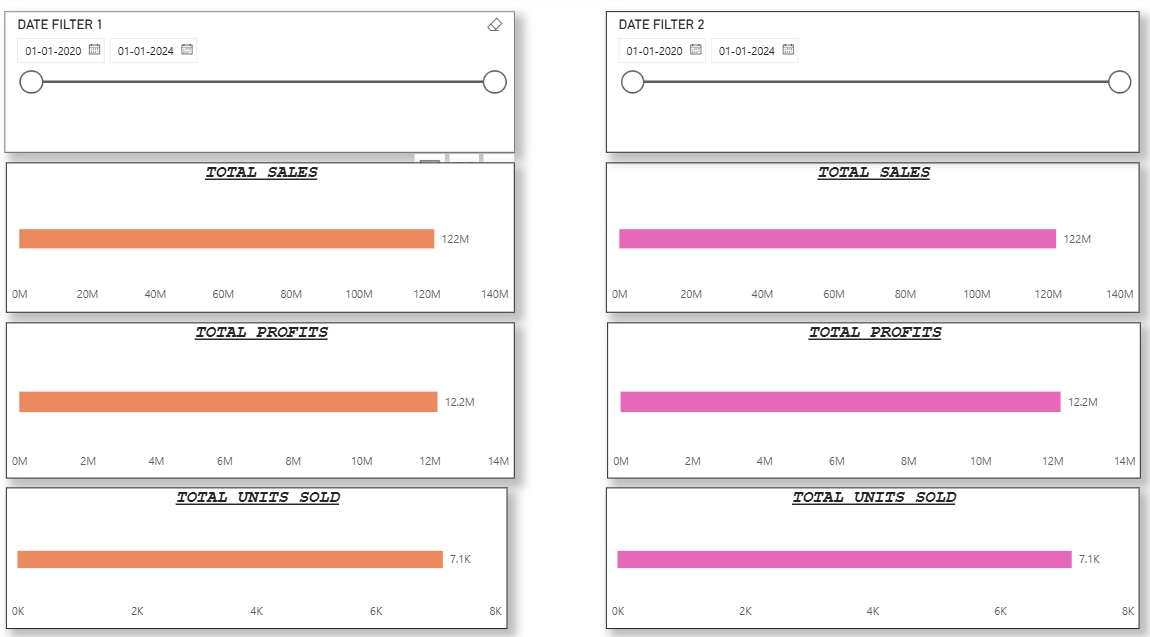

This screenshot's page, from the dashboard's own definition file:
{"tool":"powerbi","page":{"name":"REQUIREMNTS","canvas":[1280,720],"ordinal":3},"visuals":[{"type":"slicer","fields":{"Values":["Fact table.Date (dd/mm/yyyy)"]},"box":[9.6,17.8,559.9,155.1],"z":0},{"type":"barChart","title":"TOTAL SALES","fields":{"Y":["Sum(Fact table.NET SALES)"]},"box":[11,183.9,558.5,164.7],"z":1000},{"type":"barChart","title":"TOTAL PROFITS","fields":{"Y":["Sum(Fact table.PROFIT)"]},"box":[11,359.5,558.5,171.5],"z":2000},{"type":"barChart","title":"TOTAL UNITS SOLD","fields":{"Y":["Sum(Fact table.Units Sold)"]},"box":[11,540.7,550.3,155.1],"z":3000},{"type":"barChart","title":"TOTAL SALES","fields":{"Y":["Sum(Fact table.NET SALES)"]},"box":[669.6,183.9,585.9,164.7],"z":4000},{"type":"barChart","title":"TOTAL PROFITS","fields":{"Y":["Sum(Fact table.PROFIT)"]},"box":[671,359.5,585.9,171.5],"z":5000},{"type":"barChart","title":"TOTAL UNITS SOLD","fields":{"Y":["Sum(Fact table.Units Sold)"]},"box":[669.6,540.7,585.9,155.1],"z":6000},{"type":"slicer","fields":{"Values":["Fact table.Date (dd/mm/yyyy)"]},"box":[669.6,17.8,585.9,155.1],"z":7000}]}

Visuals, with their boxes in screenshot pixels (x1, y1, x2, y2), scaled from the page's 1280x720 canvas onto the 1150x637 screenshot:
slicer - Fact table.Date (dd/mm/yyyy): x1=9, y1=16, x2=512, y2=153
"TOTAL SALES" barChart: x1=10, y1=163, x2=512, y2=308
"TOTAL PROFITS" barChart: x1=10, y1=318, x2=512, y2=470
"TOTAL UNITS SOLD" barChart: x1=10, y1=478, x2=504, y2=616
"TOTAL SALES" barChart: x1=602, y1=163, x2=1128, y2=308
"TOTAL PROFITS" barChart: x1=603, y1=318, x2=1129, y2=470
"TOTAL UNITS SOLD" barChart: x1=602, y1=478, x2=1128, y2=616
slicer - Fact table.Date (dd/mm/yyyy): x1=602, y1=16, x2=1128, y2=153
